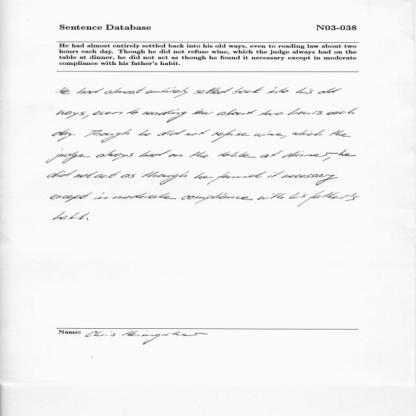Handwritten text: (33, 184, 365, 227), (41, 100, 364, 125), (57, 77, 346, 104), (41, 167, 350, 190), (34, 123, 356, 145), (31, 146, 361, 165)
